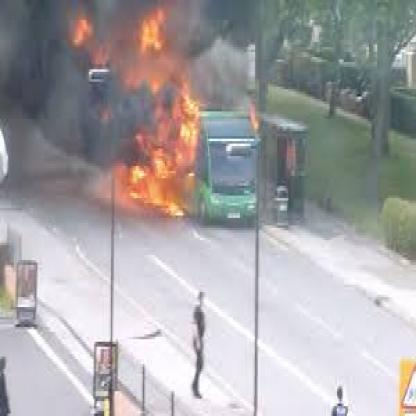fire: (61, 0, 200, 211)
